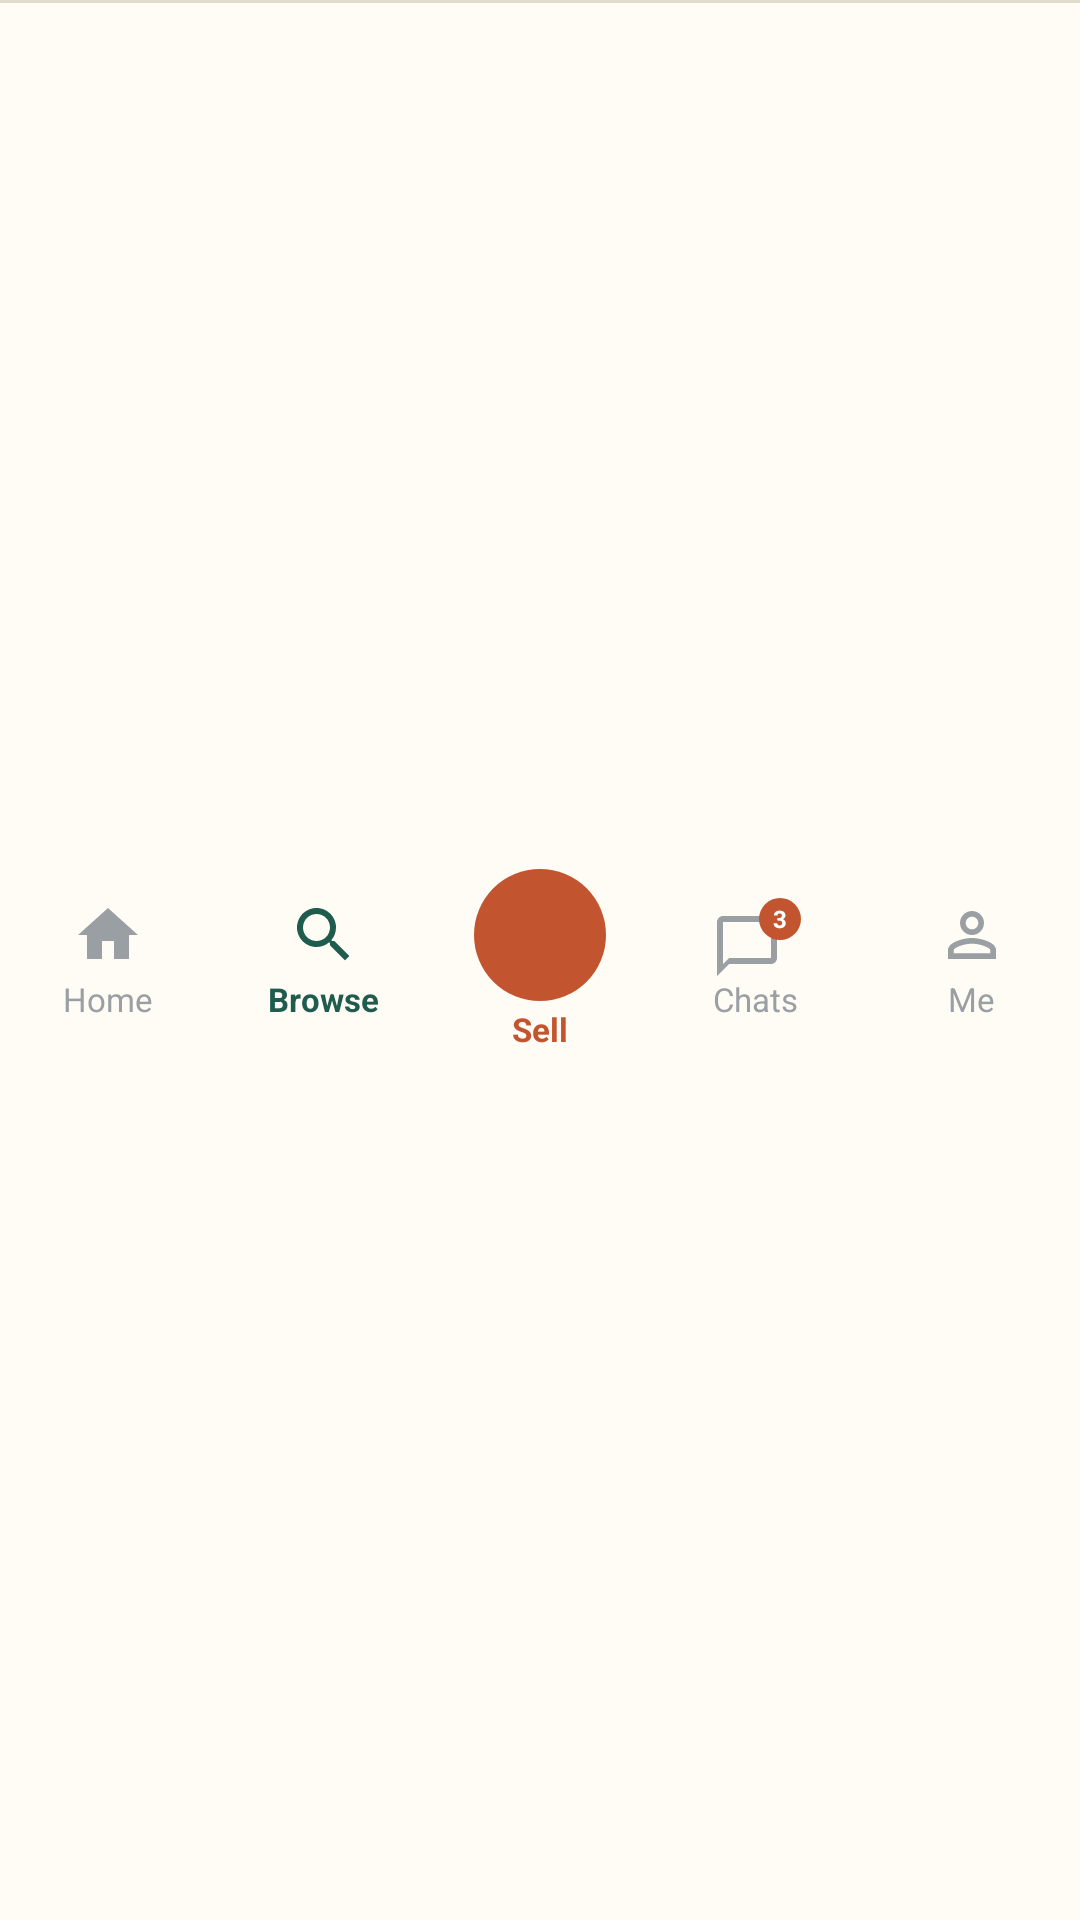

Point at icon controls on the screen. Image size 1080px×1920px, points as (x=x, y=y).
person: (x=972, y=935)
search: (x=323, y=934)
